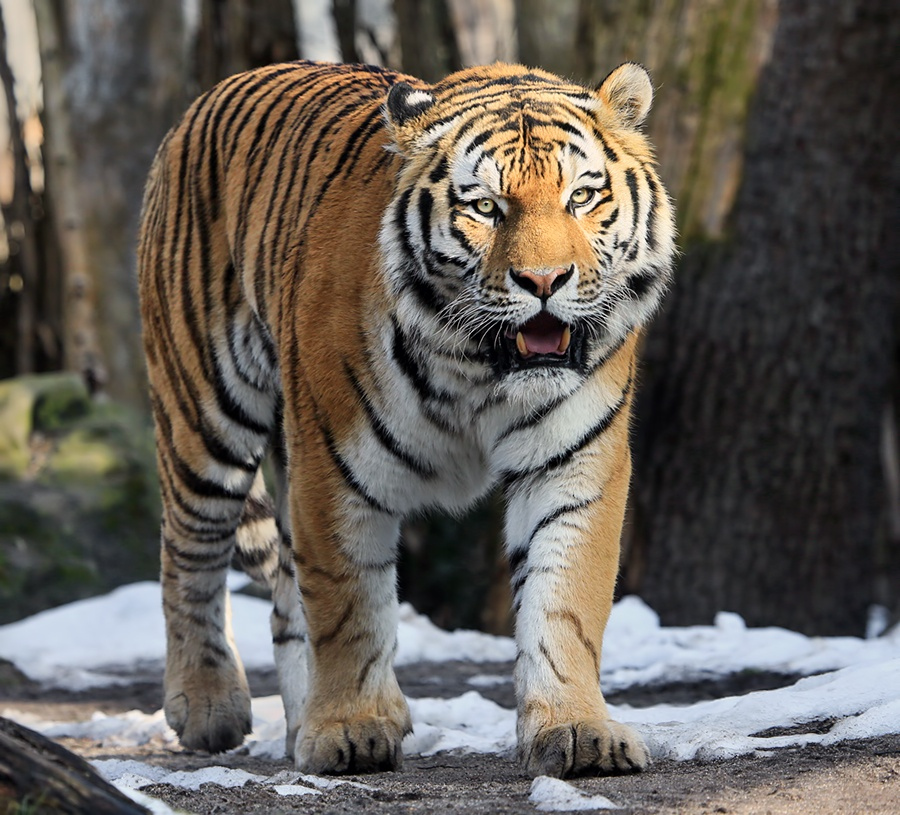tiger: (167, 65, 674, 745)
